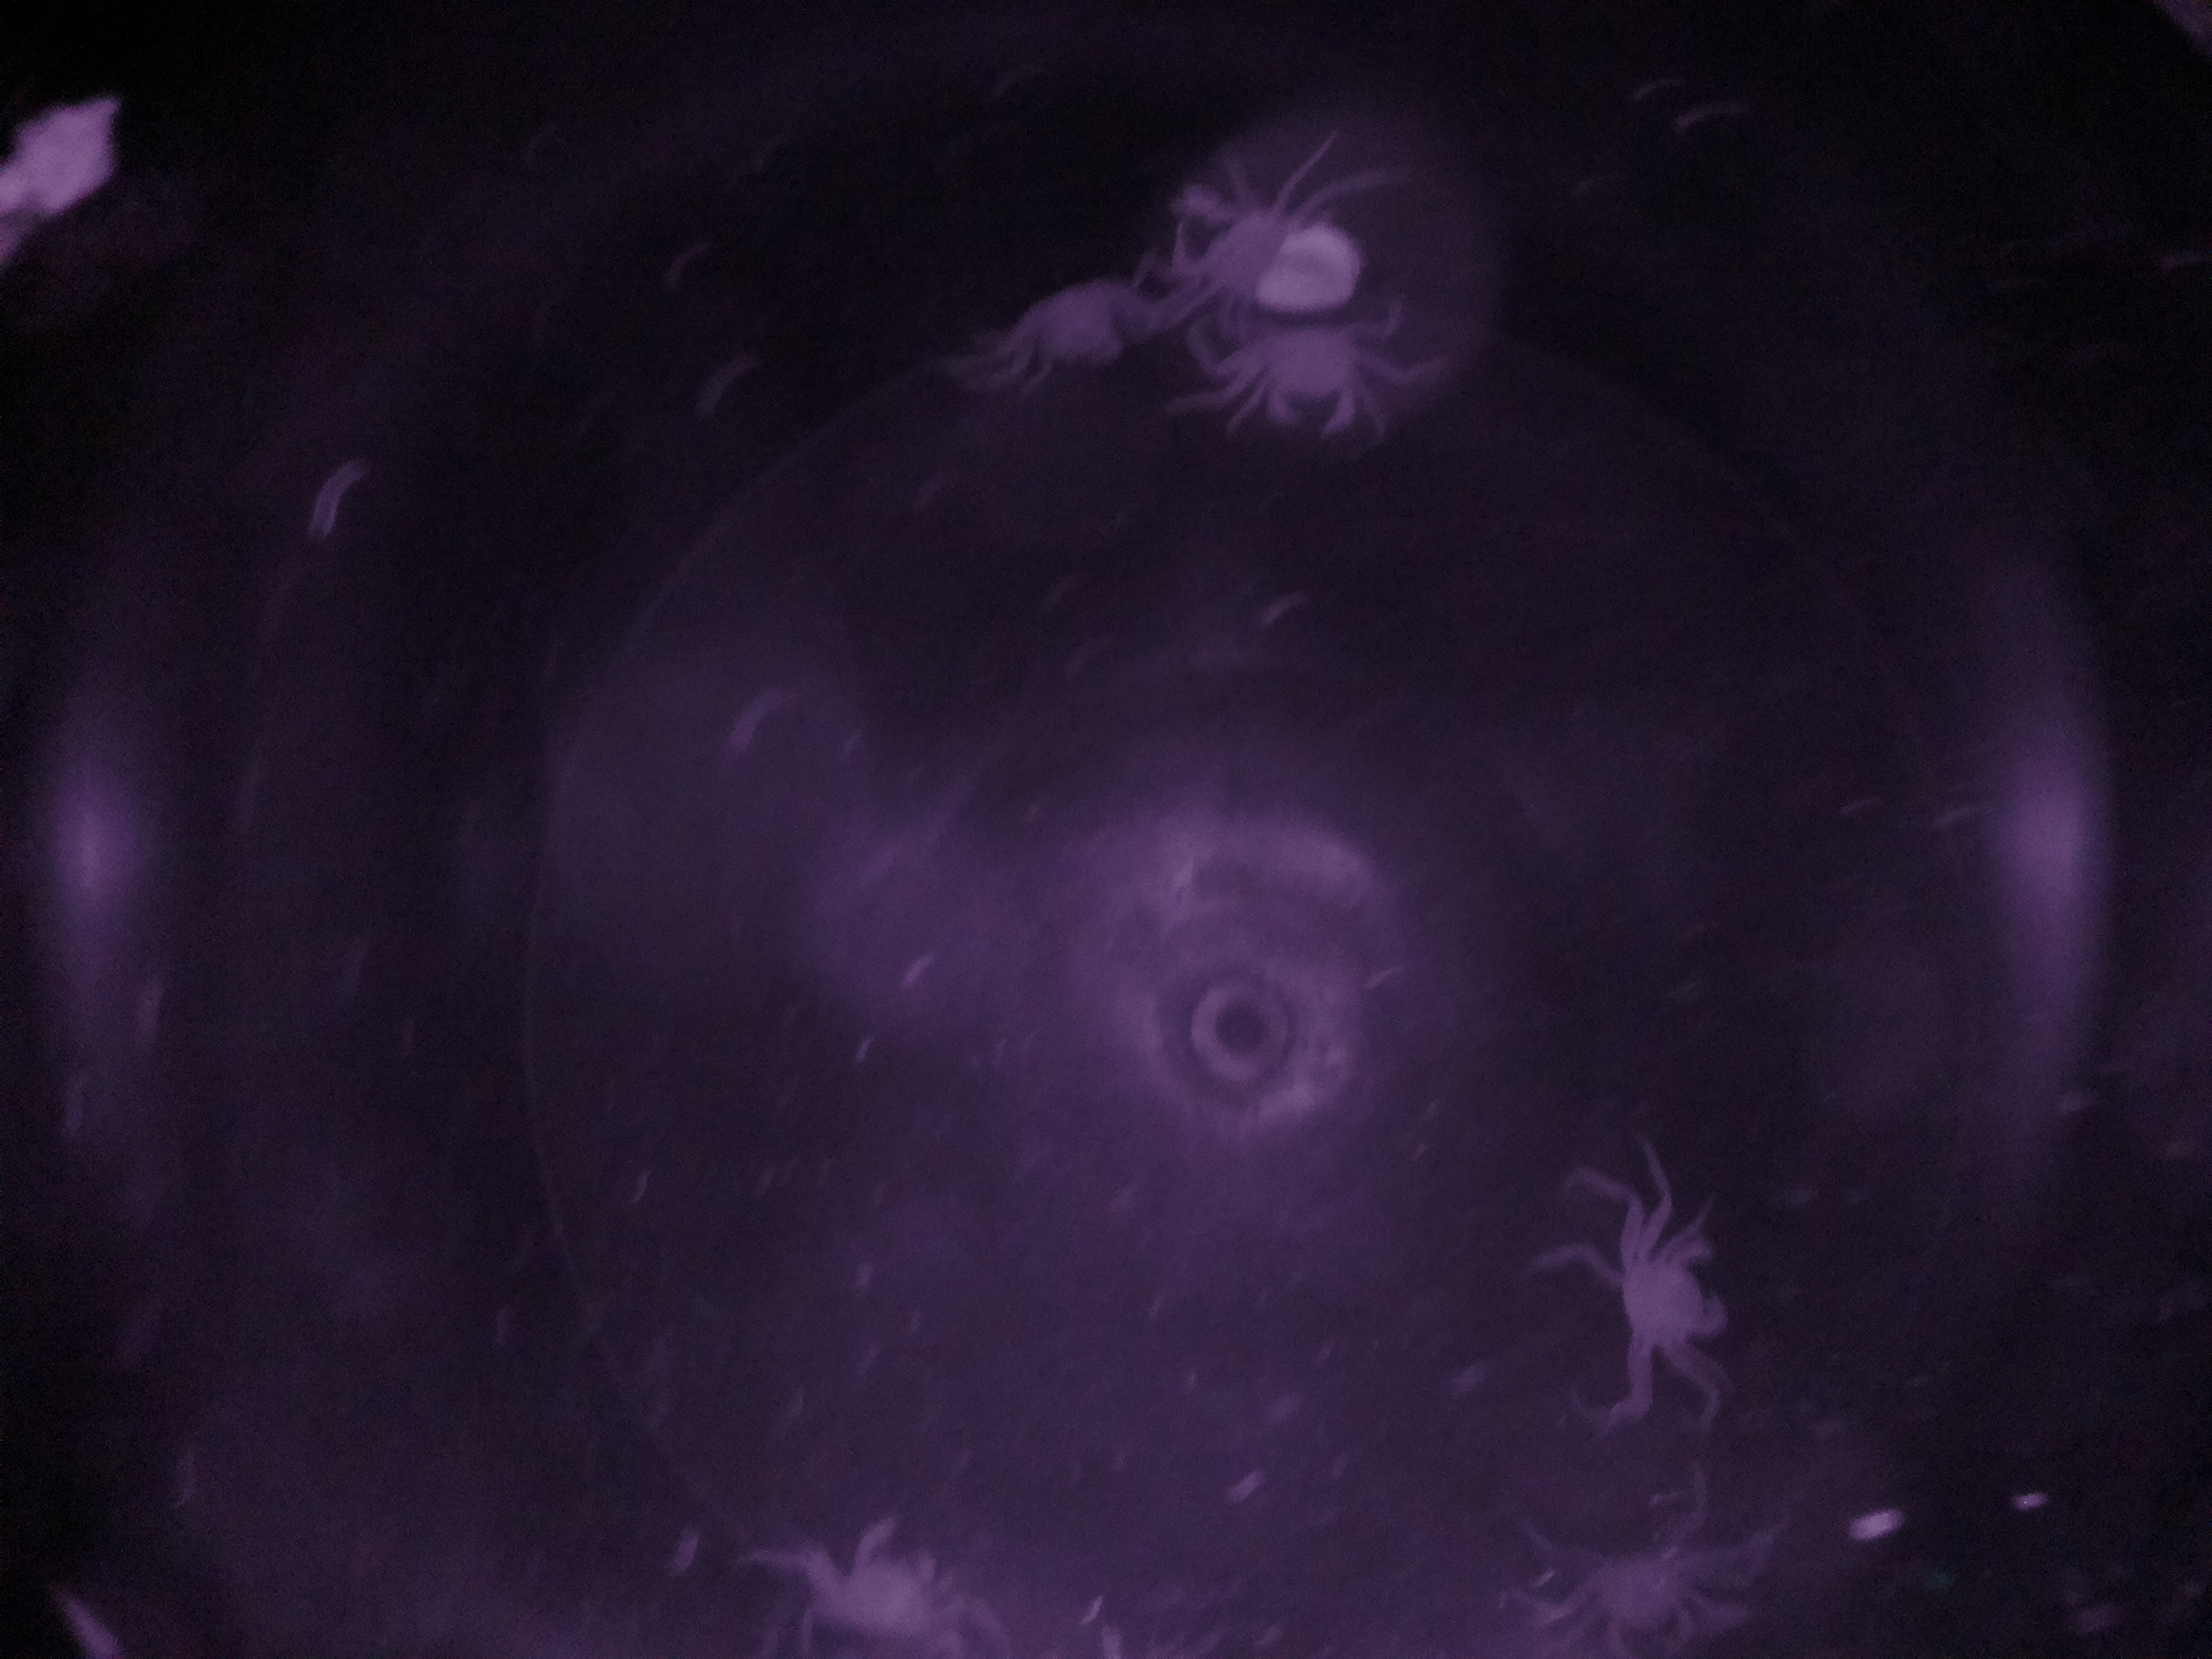Crab: (1595, 1187, 1745, 1401), (1209, 303, 1399, 441)
